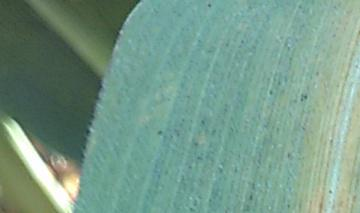tarspot: (298, 93, 307, 103), (247, 192, 253, 202), (199, 118, 206, 126), (285, 202, 293, 209), (205, 2, 212, 9), (296, 2, 303, 9), (156, 128, 162, 136), (239, 37, 245, 45), (286, 150, 291, 159), (267, 89, 274, 95), (328, 188, 334, 195), (223, 40, 228, 48), (314, 70, 320, 76), (193, 140, 198, 146)
